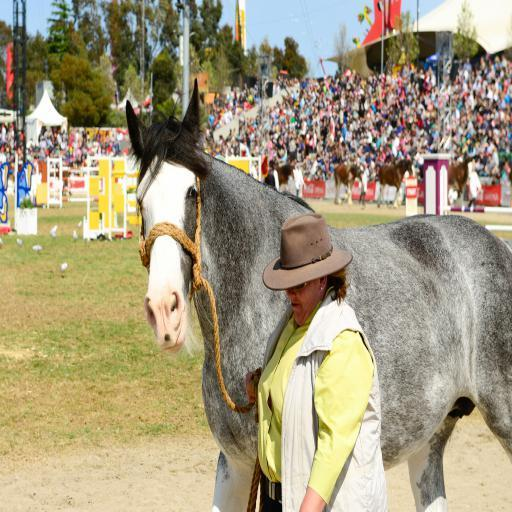horse: (124, 76, 512, 512)
